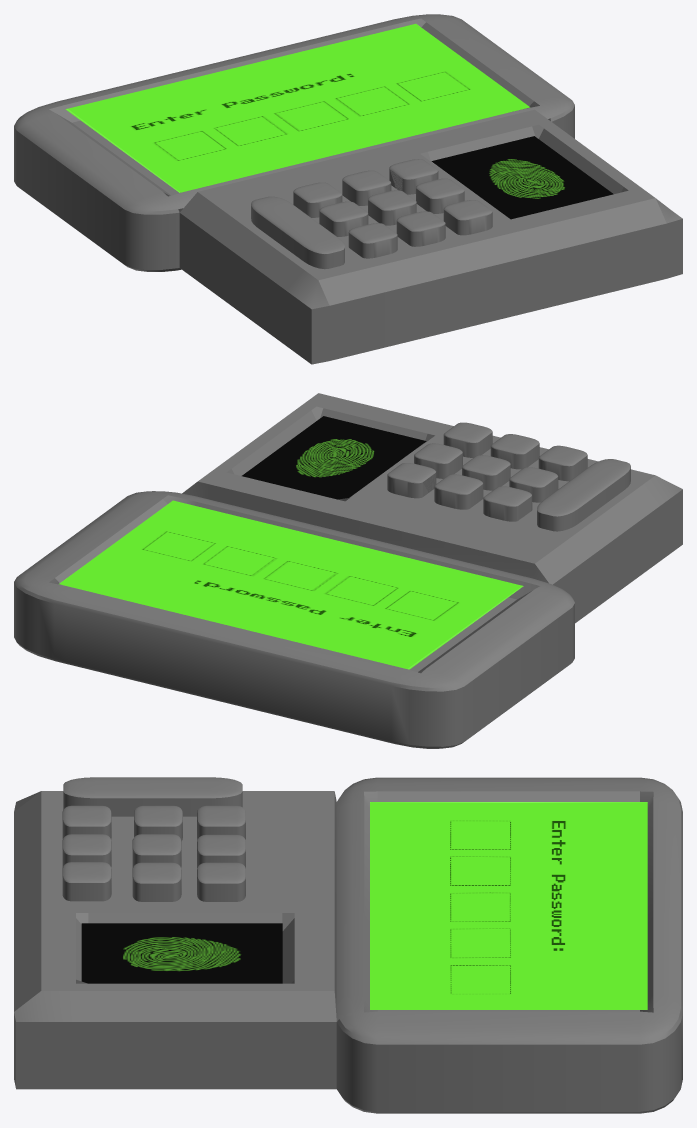
Rendered from PASSWORD_NI.fbx.
The picture shows the model from 3 angles, top to bottom: view 1: azimuth 30°, elevation 25°; view 2: azimuth 150°, elevation 25°; view 3: azimuth 270°, elevation 25°; orthographic projection. The views are drawn at different scales.
Parts seen in each view (by area): view 1: Cube, Plane, Plane.001; view 2: Cube, Plane, Plane.001; view 3: Cube, Plane, Plane.001.
Part boxes in pixels (left/top/right/bottom): Cube: left=14, top=14, right=682, bottom=364; Plane: left=65, top=23, right=529, bottom=192; Plane.001: left=431, top=136, right=613, bottom=219; Cube: left=14, top=393, right=682, bottom=748; Plane: left=59, top=500, right=523, bottom=669; Plane.001: left=242, top=416, right=426, bottom=499; Cube: left=14, top=777, right=682, bottom=1113; Plane: left=370, top=802, right=647, bottom=1009; Plane.001: left=81, top=923, right=282, bottom=983.
Bounding box in the file's own units: 255 × 53.69 × 272.
